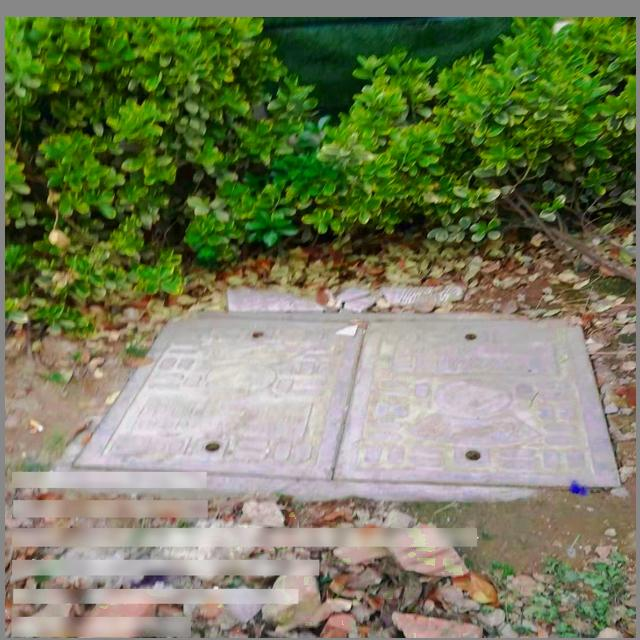good: (69, 312, 623, 487)
